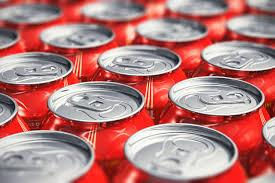Aluminum can: (0, 1, 275, 183)
